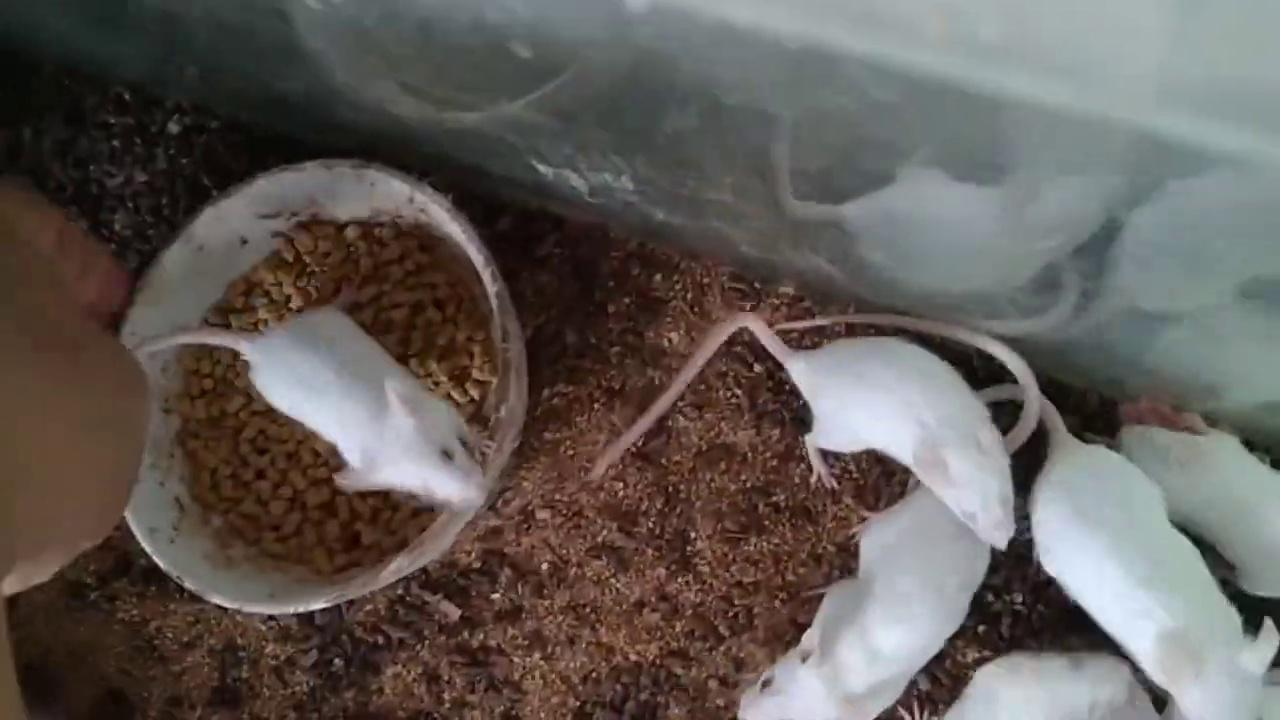rat: (588, 310, 1018, 550), (978, 383, 1280, 720), (132, 309, 498, 507), (739, 483, 992, 720)
